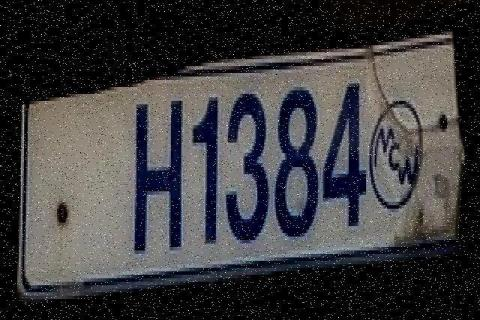LicensePlate: (8, 17, 468, 274)
